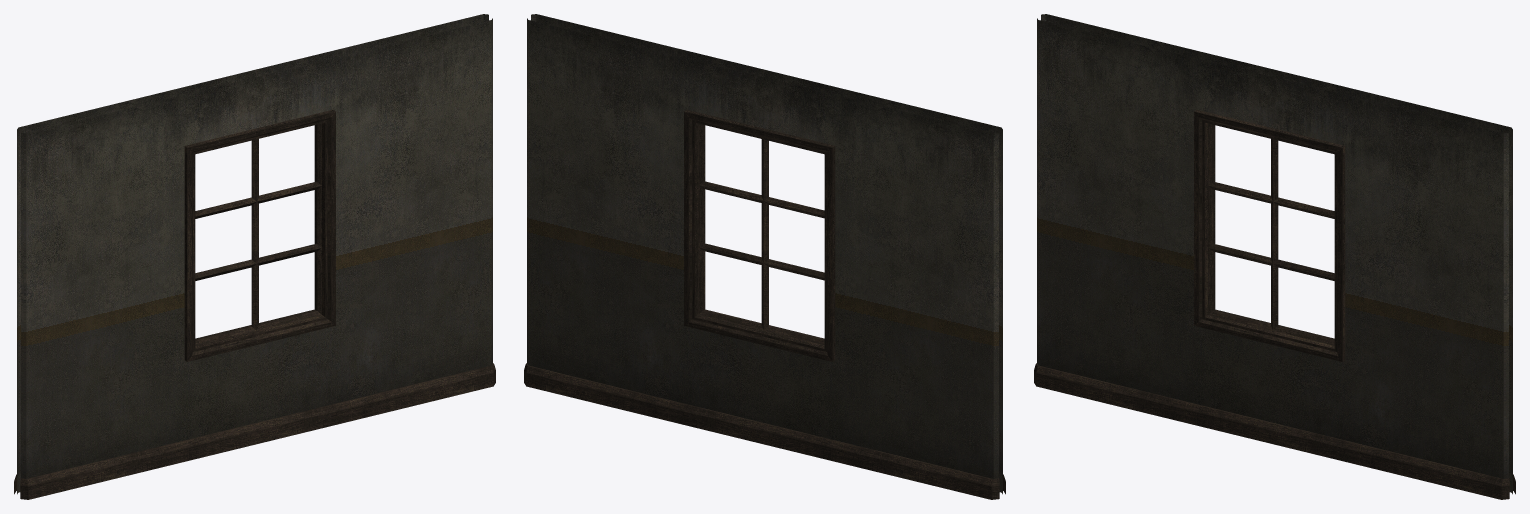
Rendered from window_2_single_no_glass.glb.
3 renders of one model, left to right at view 1: azimuth 30°, elevation 25°; view 2: azimuth 150°, elevation 25°; view 3: azimuth 330°, elevation 25°, orthographic.
Parts seen in each view (by area): view 1: window_2_single_no_glass; view 2: window_2_single_no_glass; view 3: window_2_single_no_glass.
Part boxes in pixels (left/top/right/bottom): window_2_single_no_glass: left=14, top=14, right=495, bottom=499; window_2_single_no_glass: left=524, top=14, right=1005, bottom=499; window_2_single_no_glass: left=1034, top=14, right=1515, bottom=499.
Size of the model in its own units: 4.09 by 3 by 0.2.
2 materials, 2 textured.
